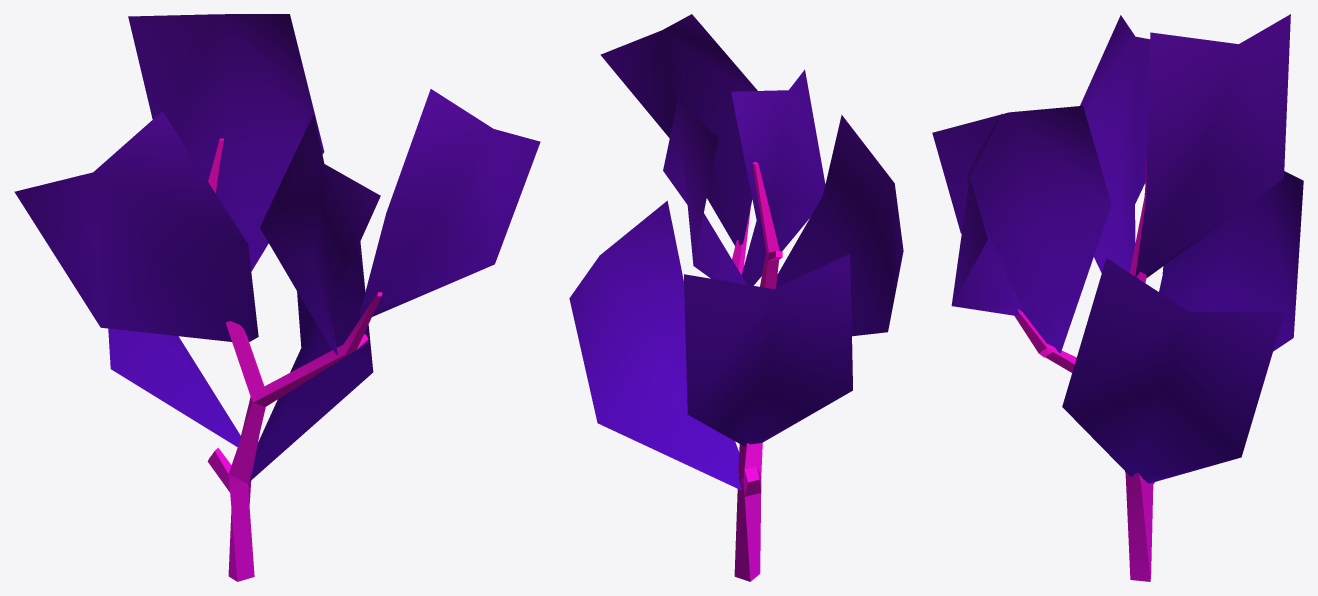
Rendered from synty-tree-dead-03.gltf.
The picture shows the model from 3 angles, left to right: view 1: azimuth 30°, elevation 25°; view 2: azimuth 150°, elevation 25°; view 3: azimuth 270°, elevation 25°; orthographic projection. The views are drawn at different scales.
Visible parts, largest first — view 1: SM_Tree_Dead_03; view 2: SM_Tree_Dead_03; view 3: SM_Tree_Dead_03.
Boxes of the visible parts, box(x1,y1,x2,y2) form: SM_Tree_Dead_03: box(14, 14, 540, 581); SM_Tree_Dead_03: box(569, 14, 903, 581); SM_Tree_Dead_03: box(932, 14, 1303, 581).
Bounding box in the file's own units: 0.9904 × 1.23 × 0.7231.
